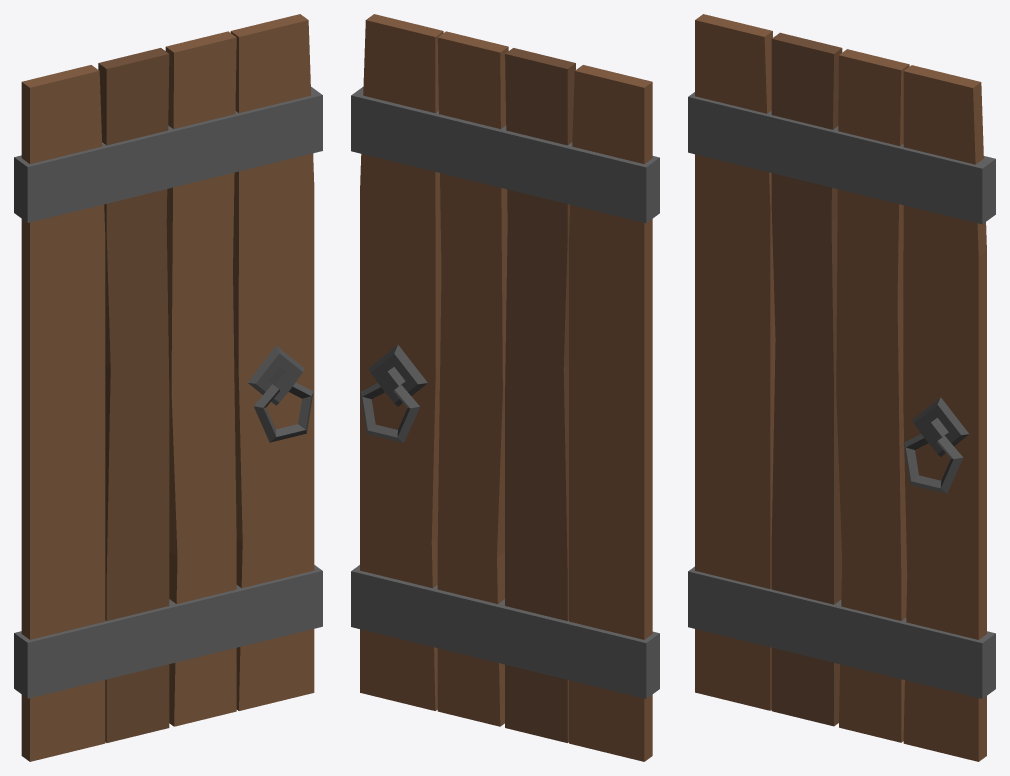
Rendered from Door_01.fbx.
3 renders of one model, left to right at view 1: azimuth 30°, elevation 25°; view 2: azimuth 150°, elevation 25°; view 3: azimuth 330°, elevation 25°, orthographic.
Visible parts, largest first — view 1: Door_01_LOD0; view 2: Door_01_LOD0; view 3: Door_01_LOD0.
Boxes of the visible parts, x1,y1,x2,y2 form: Door_01_LOD0: [14, 14, 322, 761]; Door_01_LOD0: [351, 14, 659, 761]; Door_01_LOD0: [688, 14, 995, 761].
Size of what is drawn, in the model's own units: 0.9025 by 1.97 by 0.2051.
